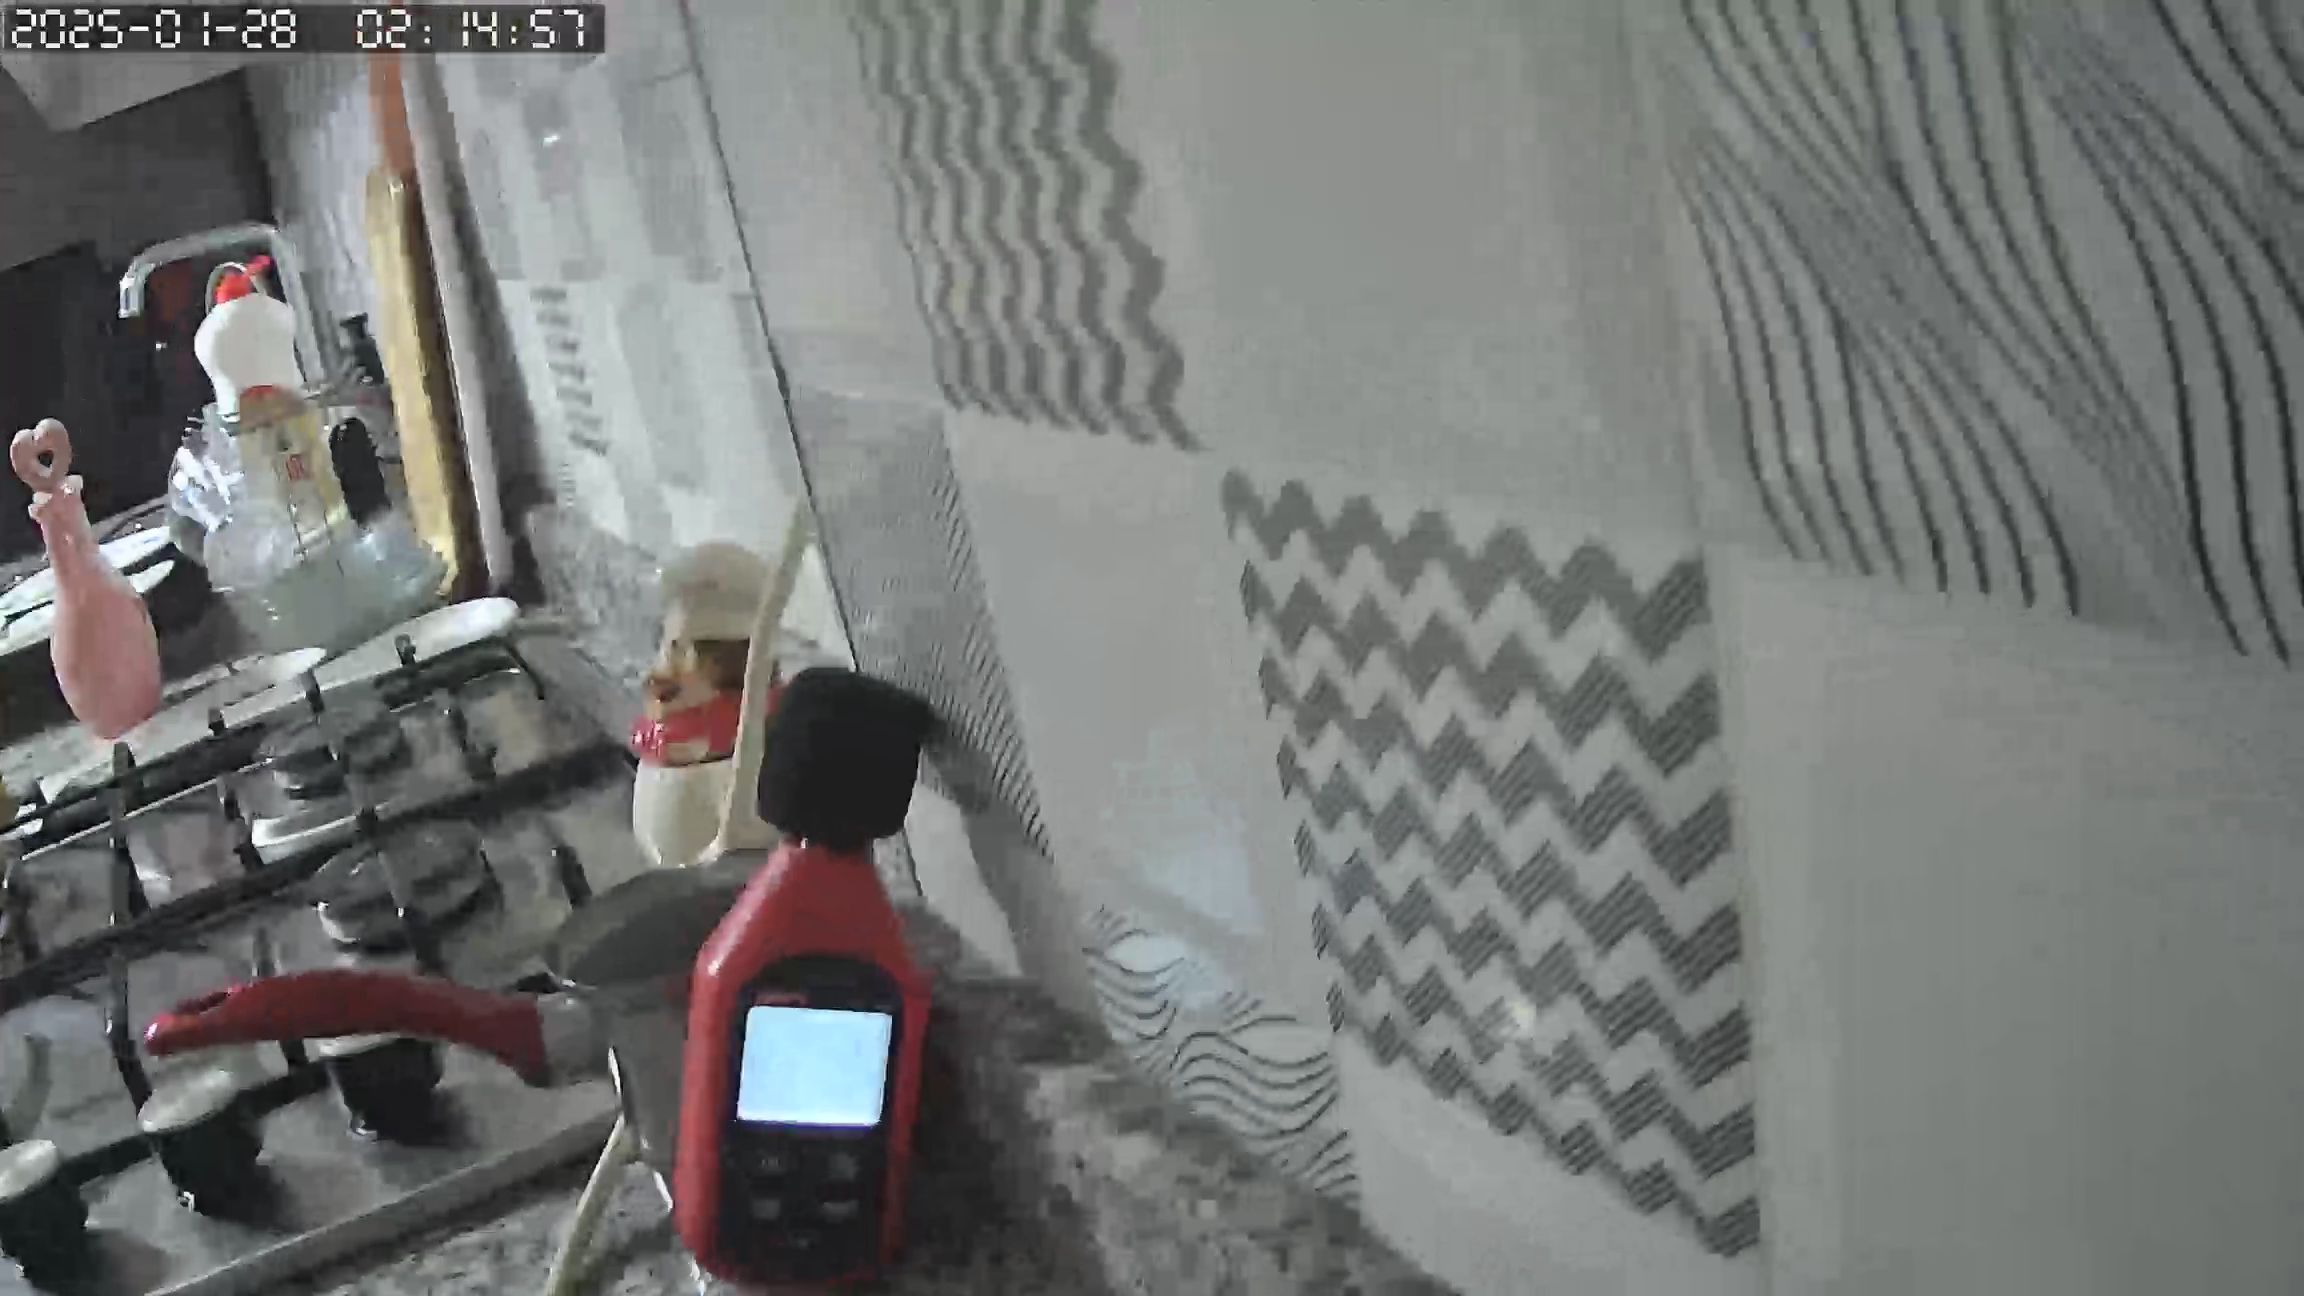screen: (734, 1002, 896, 1135)
